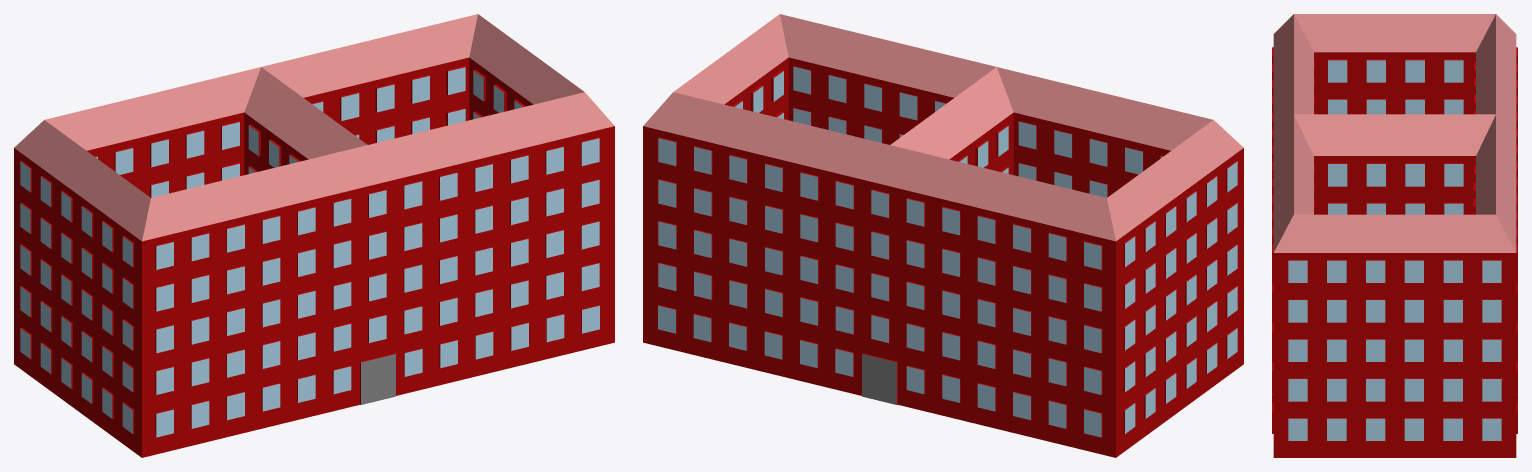
The model's file is MiddleSchool.fbx.
3 renders of one model, left to right at view 1: azimuth 30°, elevation 25°; view 2: azimuth 150°, elevation 25°; view 3: azimuth 270°, elevation 25°, orthographic. The views are drawn at different scales.
Parts seen in each view (by area): view 1: SchoolBase; view 2: SchoolBase; view 3: SchoolBase.
Part boxes in pixels (x1,y1,x2,y2): SchoolBase: (14, 14, 614, 457); SchoolBase: (643, 14, 1243, 457); SchoolBase: (1272, 14, 1517, 457).
Size of the model in its own units: 9660 by 4800 by 4560.
